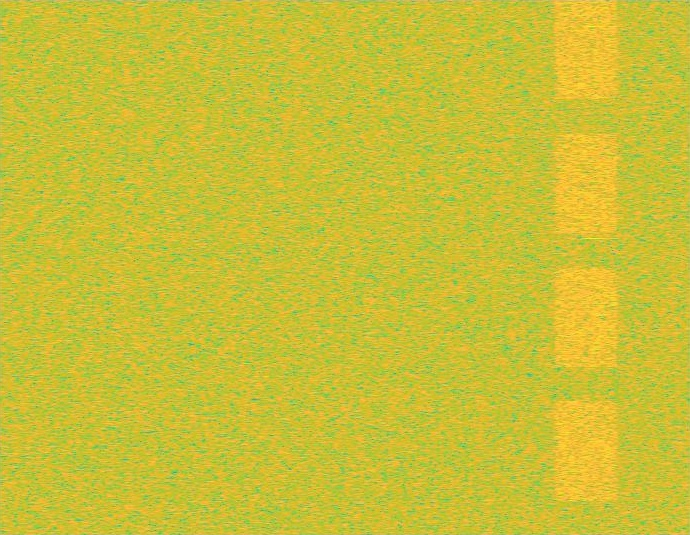5G: (552, 0, 621, 534)
Radar: (587, 0, 601, 534)
